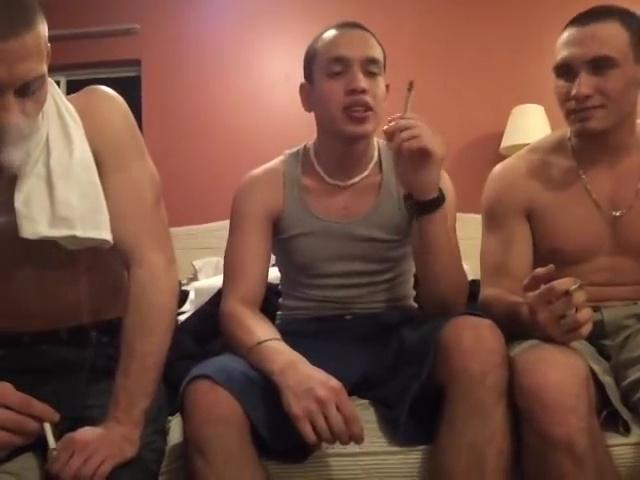cigarette: (40, 413, 60, 459), (401, 75, 418, 120), (566, 279, 588, 296)
